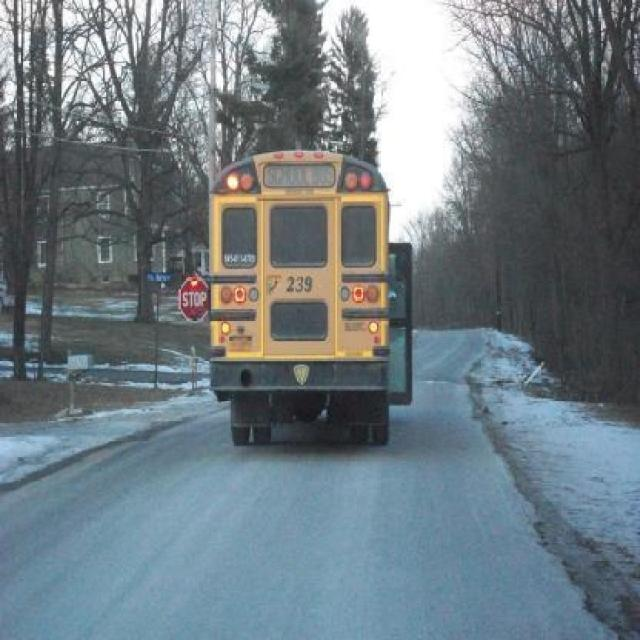Bus: (174, 129, 434, 501)
